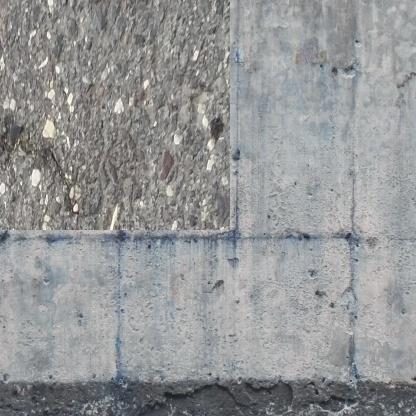Cracks: (0, 101, 67, 194)
